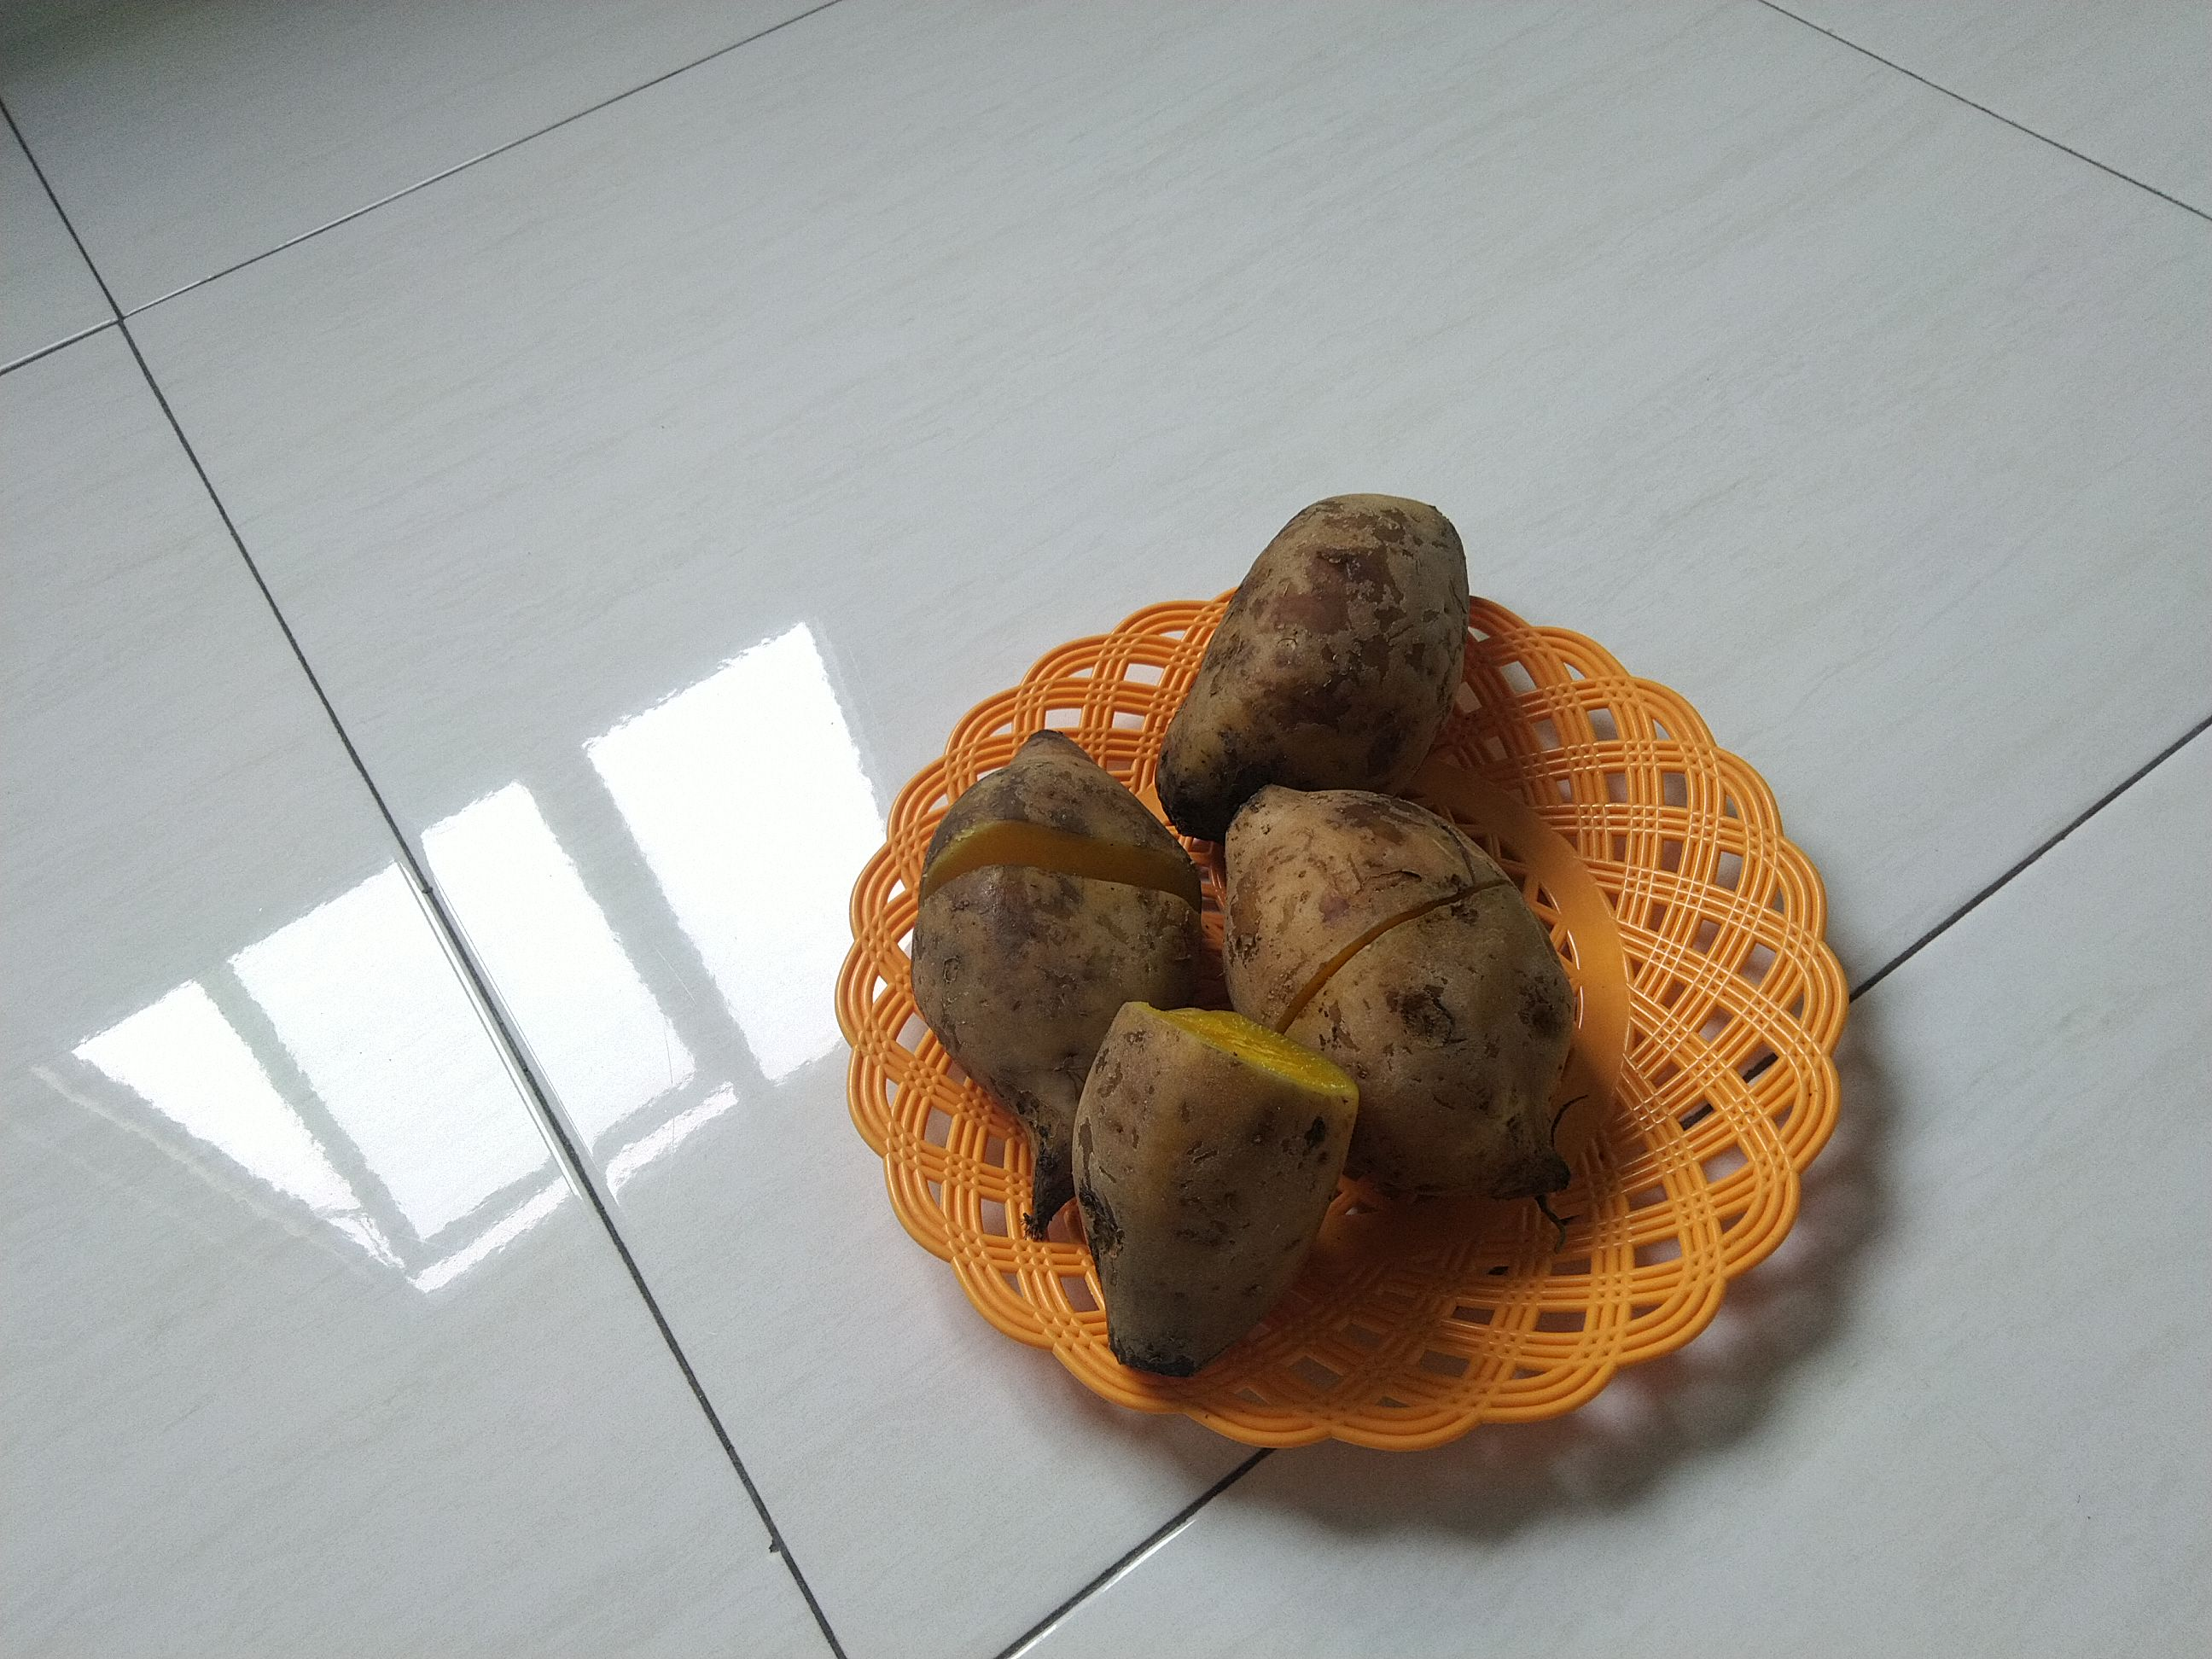ubi kuning: (1204, 775, 1609, 1243), (907, 714, 1211, 1249), (1038, 985, 1364, 1408), (1150, 477, 1482, 823)
